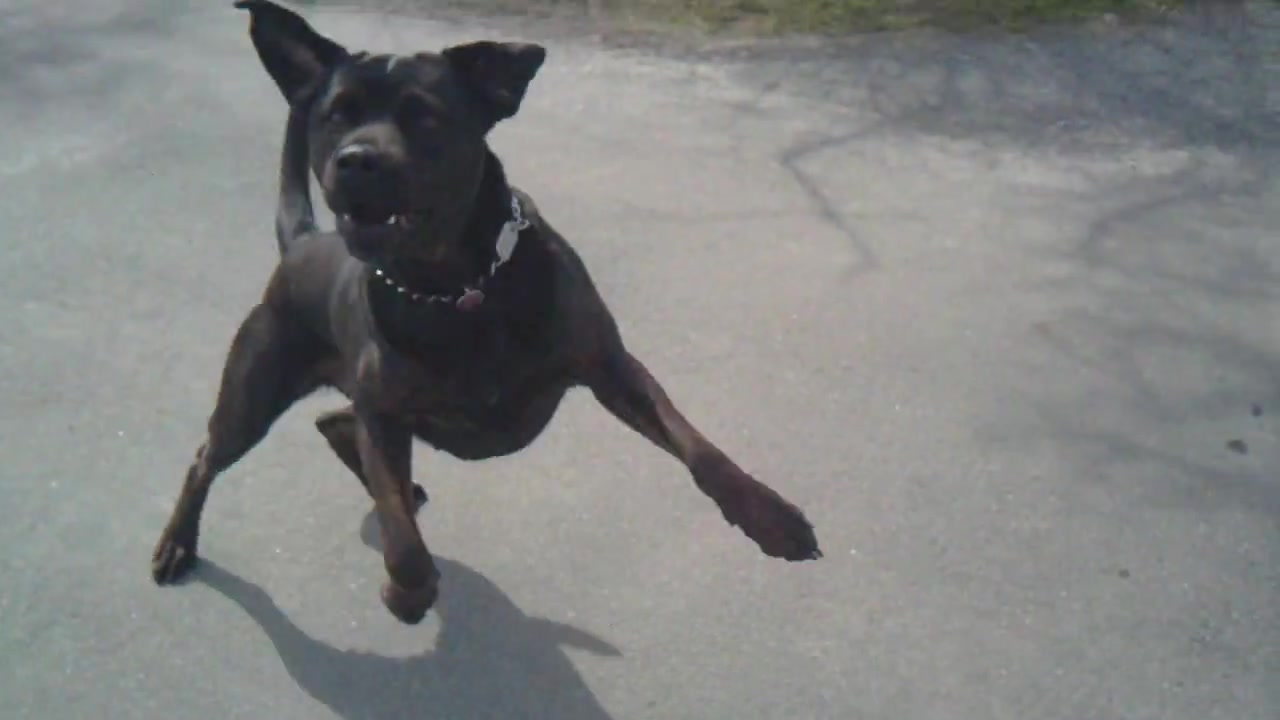dog: (151, 4, 824, 624)
